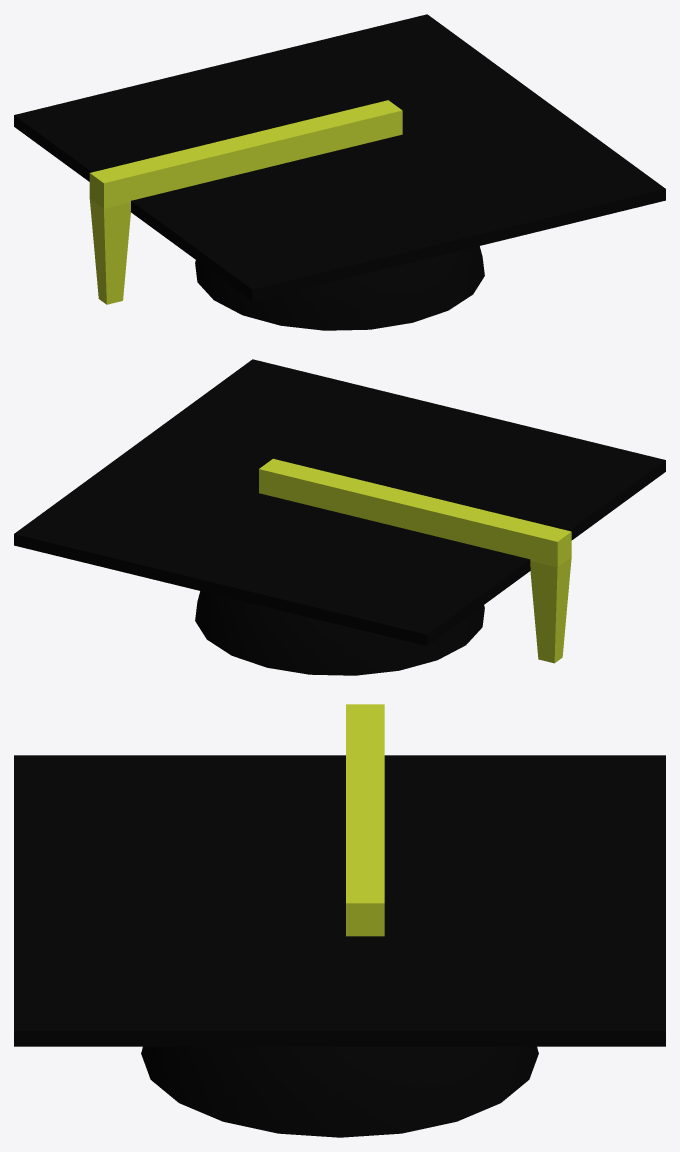
Rendered from cap.gltf.
The picture shows the model from 3 angles, top to bottom: view 1: azimuth 30°, elevation 25°; view 2: azimuth 150°, elevation 25°; view 3: azimuth 270°, elevation 25°; orthographic projection. The views are drawn at different scales.
Parts seen in each view (by area): view 1: grad_hat, Cube.001; view 2: grad_hat, Cube.001; view 3: grad_hat, Cube.001.
Boxes of the visible parts, x1,y1,x2,y2 form: grad_hat: (14,14,665,330); Cube.001: (89,100,402,304); grad_hat: (14,359,665,675); Cube.001: (259,458,571,663); grad_hat: (14,755,665,1137); Cube.001: (346,704,384,936).
Size of the model in its own units: 1.58 by 0.4867 by 1.49.
